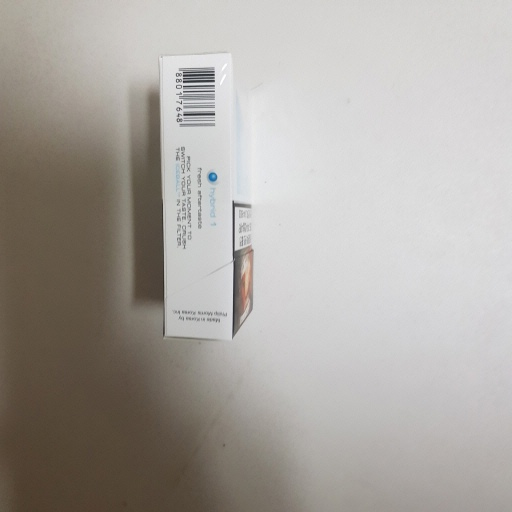Paper_0: (137, 51, 271, 348)
